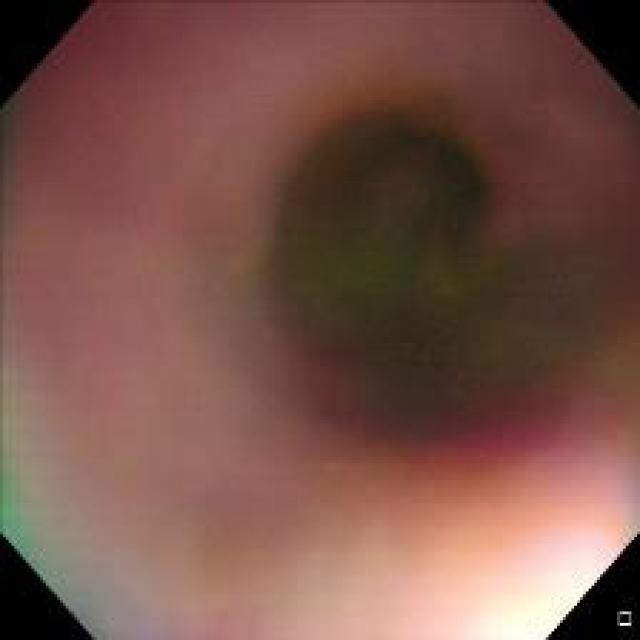blur: (2, 12, 626, 616)
color misalignment: (315, 229, 626, 474), (10, 446, 174, 624)
contrast: (274, 111, 478, 304)
saturation: (500, 536, 612, 634)
